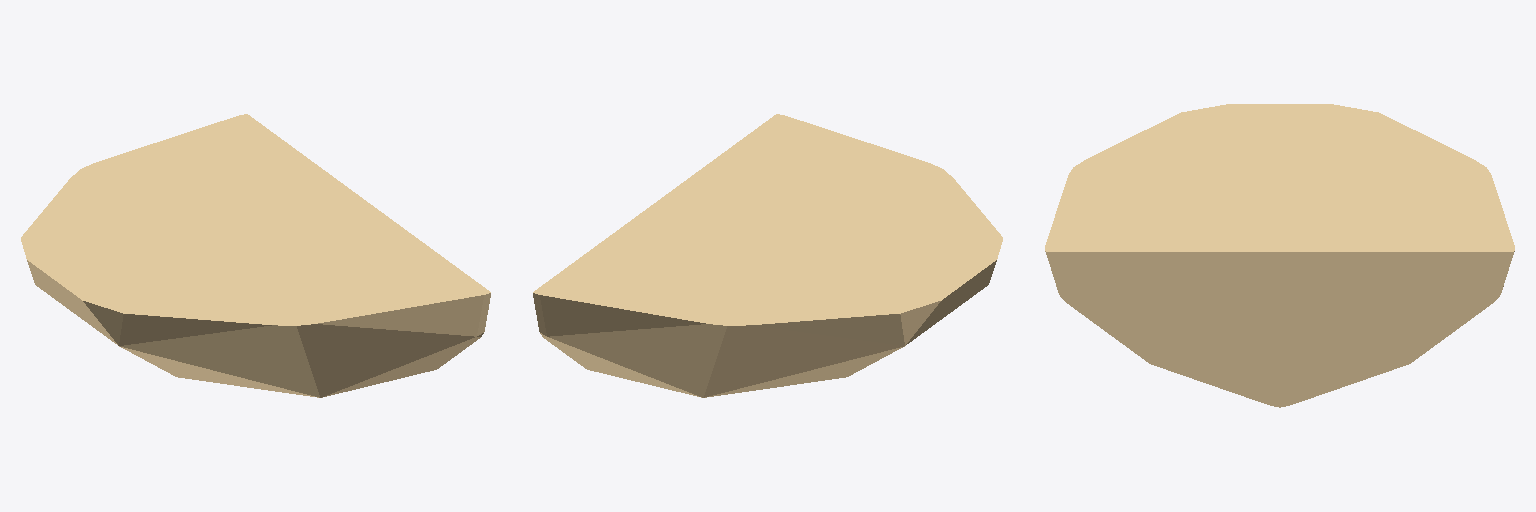
URDF robot description (potato6):
<?xml version="1.0"?>
<robot name="potato6"
       xmlns:xi="http://www.w3.org/2001/XInclude">
  <gazebo>
    <static>false</static>
  </gazebo>
  <link name="nil_link">
    <visual>
      <origin xyz="0 0 0" rpy="0 -0 0"/>
      <geometry>
        <mesh filename="model://potato6/meshes/nil_link_mesh.dae" scale="1 1 1" />
      </geometry>
    </visual>
    <collision>
      <origin xyz="0 0 0" rpy="0 -0 0"/>
      <geometry>
        <mesh filename="model://potato6/meshes/nil_link_mesh.dae" scale="1 1 1" />
      </geometry>
    </collision>
    <inertial>
      <mass value="0.001" />
      <origin xyz="0 0 0" rpy="0 -0 0"/>
      <inertia ixx="1e-03" ixy="0" ixz="0" iyy="1e-03" iyz="0" izz="1e-03"/>
    </inertial>
  </link>
  <gazebo reference="nil_link">
    <mu1>0.9</mu1>
    <mu2>0.9</mu2>
  </gazebo>
</robot>

--- Facts derived from the render (not from the file) ---
3 views of the same robot in one strip: view 1: azimuth 30°, elevation 25°; view 2: azimuth 150°, elevation 25°; view 3: azimuth 270°, elevation 25° (orthographic).
Model potato6 with 1 links and 0 joints (none), rooted at nil_link, posed every joint at zero.
Visible links, largest first — view 1: nil_link; view 2: nil_link; view 3: nil_link.
Boxes of the visible links, <box> form: nil_link: <box>21,114,490,397</box>; nil_link: <box>533,114,1002,397</box>; nil_link: <box>1045,104,1514,407</box>.
Size in the robot's own frame: 0.0403 by 0.0543 by 0.02 metres.
Meshes: 1 distinct files referenced, 1 mesh visuals loaded (1 Collada DAE).
